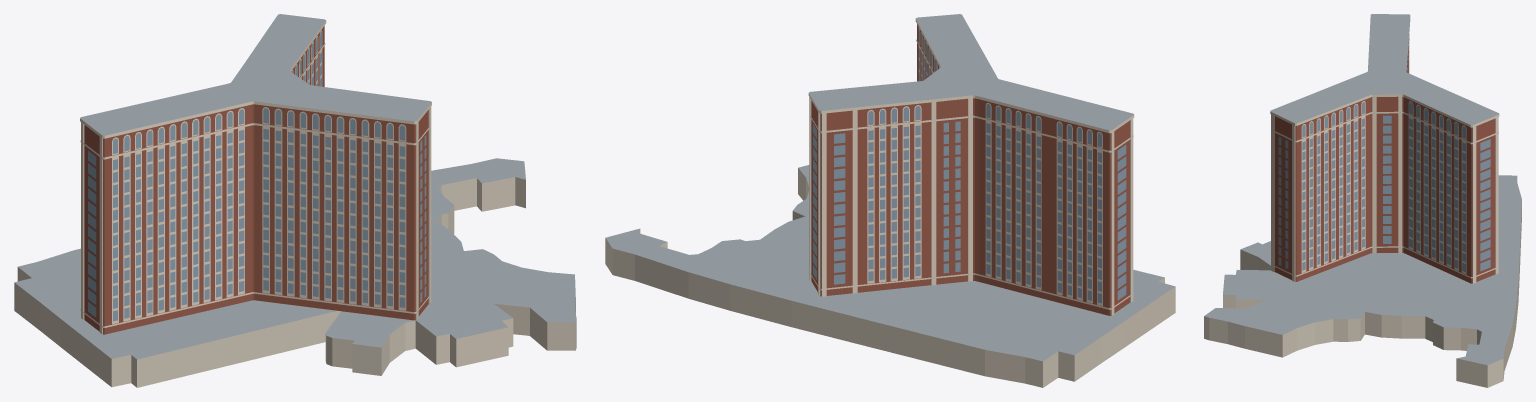
Rendered from detail.glb.
3 views of the same model, side by side, from view 1: azimuth 30°, elevation 25°; view 2: azimuth 150°, elevation 25°; view 3: azimuth 270°, elevation 25° (orthographic). The views are drawn at different scales.
Parts seen in each view (by area): view 1: treasure-island; view 2: treasure-island; view 3: treasure-island.
Boxes of the visible parts, box(x1,y1,x2,y2) form: treasure-island: box(14, 14, 576, 387); treasure-island: box(605, 14, 1175, 387); treasure-island: box(1204, 14, 1521, 387).
Size of the model in its own units: 264 by 112 by 178.
